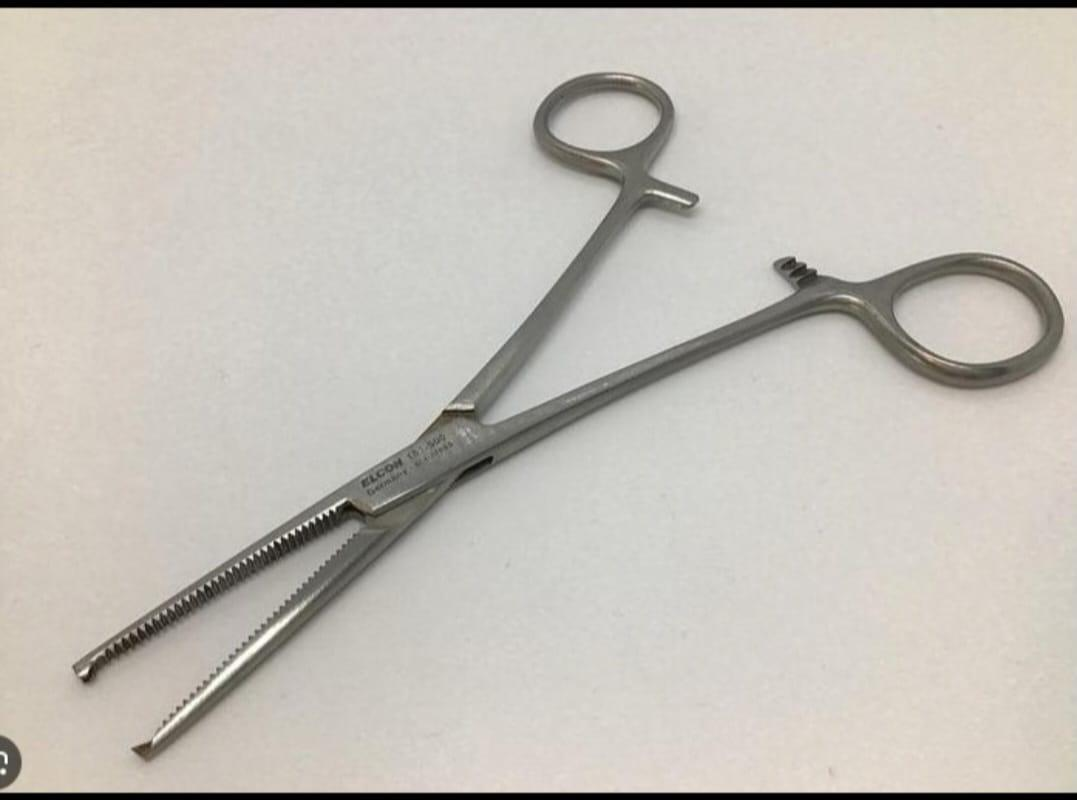Kocher Forceps: (64, 65, 1068, 761)
